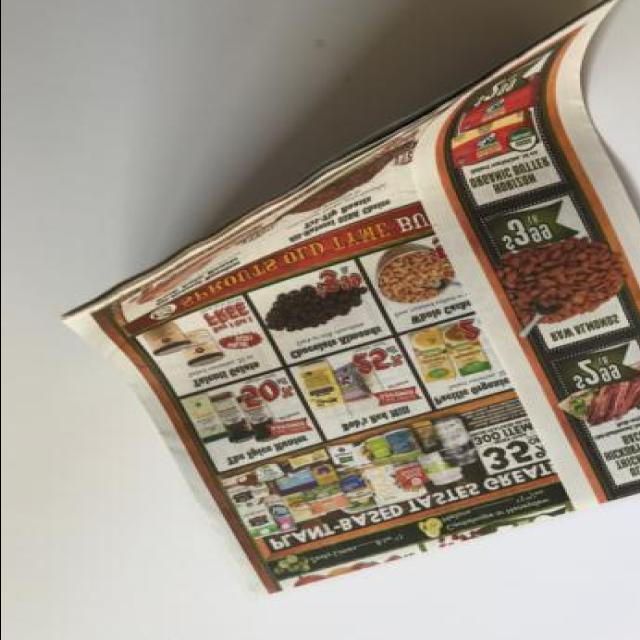kertas: (55, 0, 640, 597)
